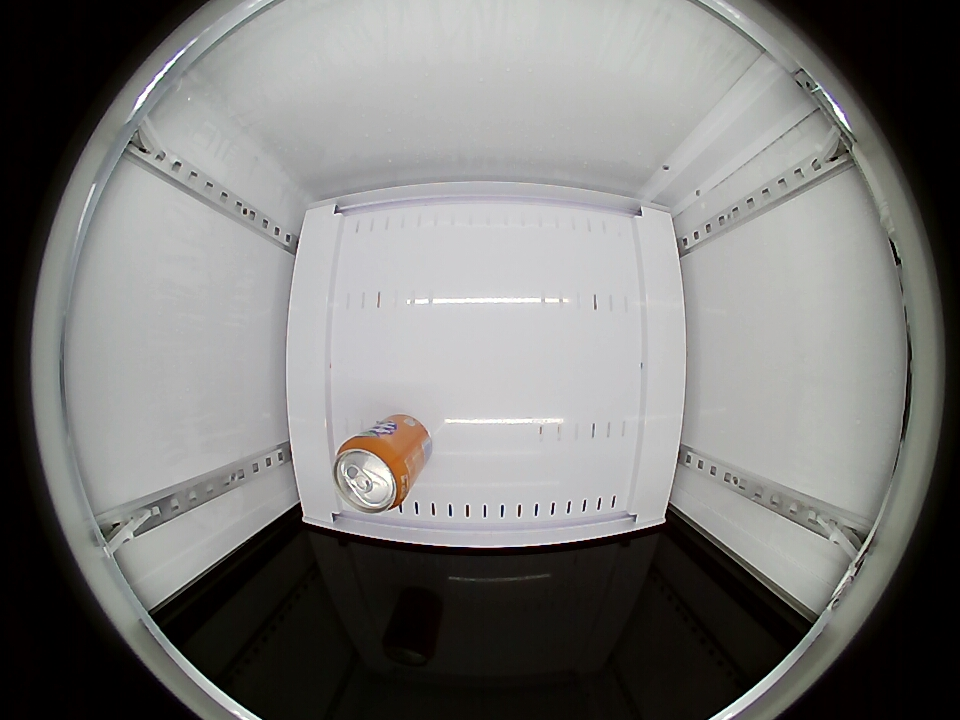fenda: (332, 433, 414, 514)
